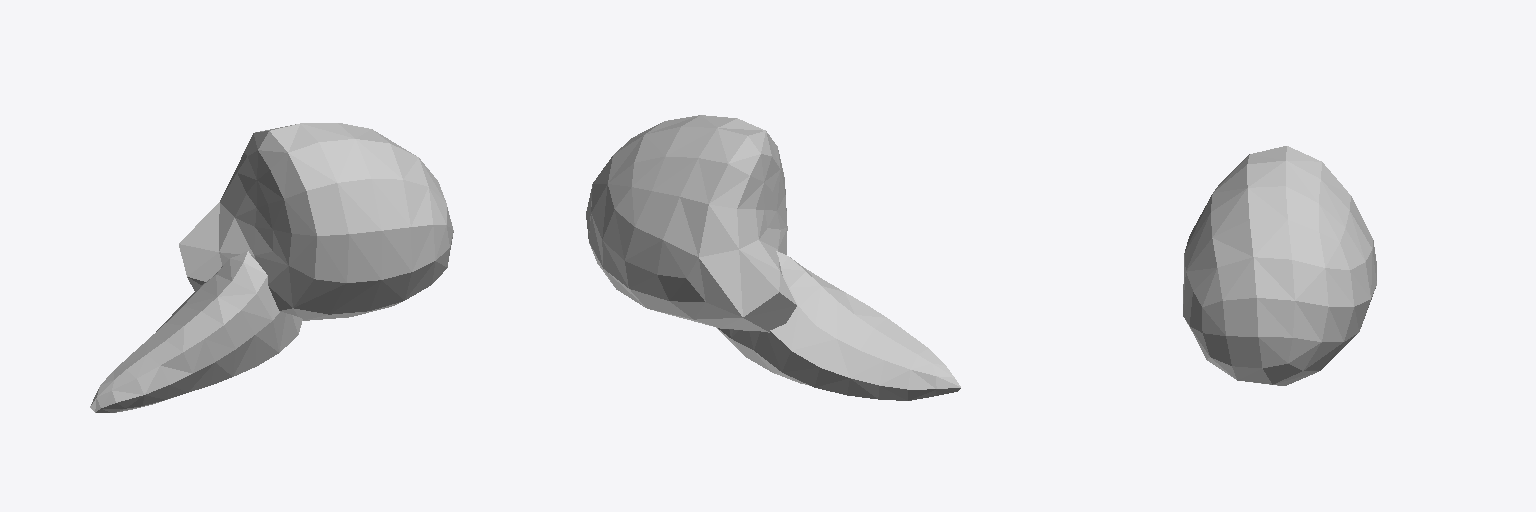
File: Whiskers-1-1.obj
3 views of the same model, side by side, from view 1: azimuth 30°, elevation 25°; view 2: azimuth 150°, elevation 25°; view 3: azimuth 270°, elevation 25° (orthographic).
Parts seen in each view (by area): view 1: Group20923; view 2: Group20923; view 3: Group20923.
Boxes of the visible parts, x1=… form: Group20923: x1=90, y1=123, x2=453, y2=412; Group20923: x1=586, y1=115, x2=960, y2=400; Group20923: x1=1183, y1=146, x2=1376, y2=385.
Size of the model in its own units: 41.76 by 26.33 by 19.57.